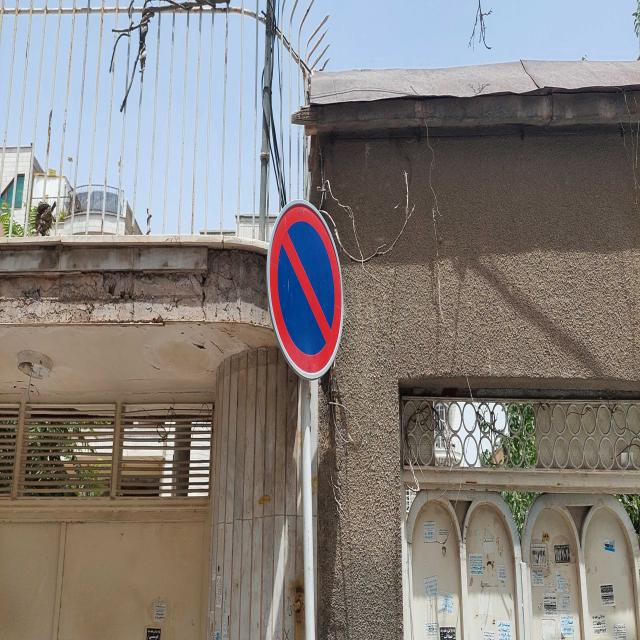forb_stopping: (266, 201, 345, 379)
